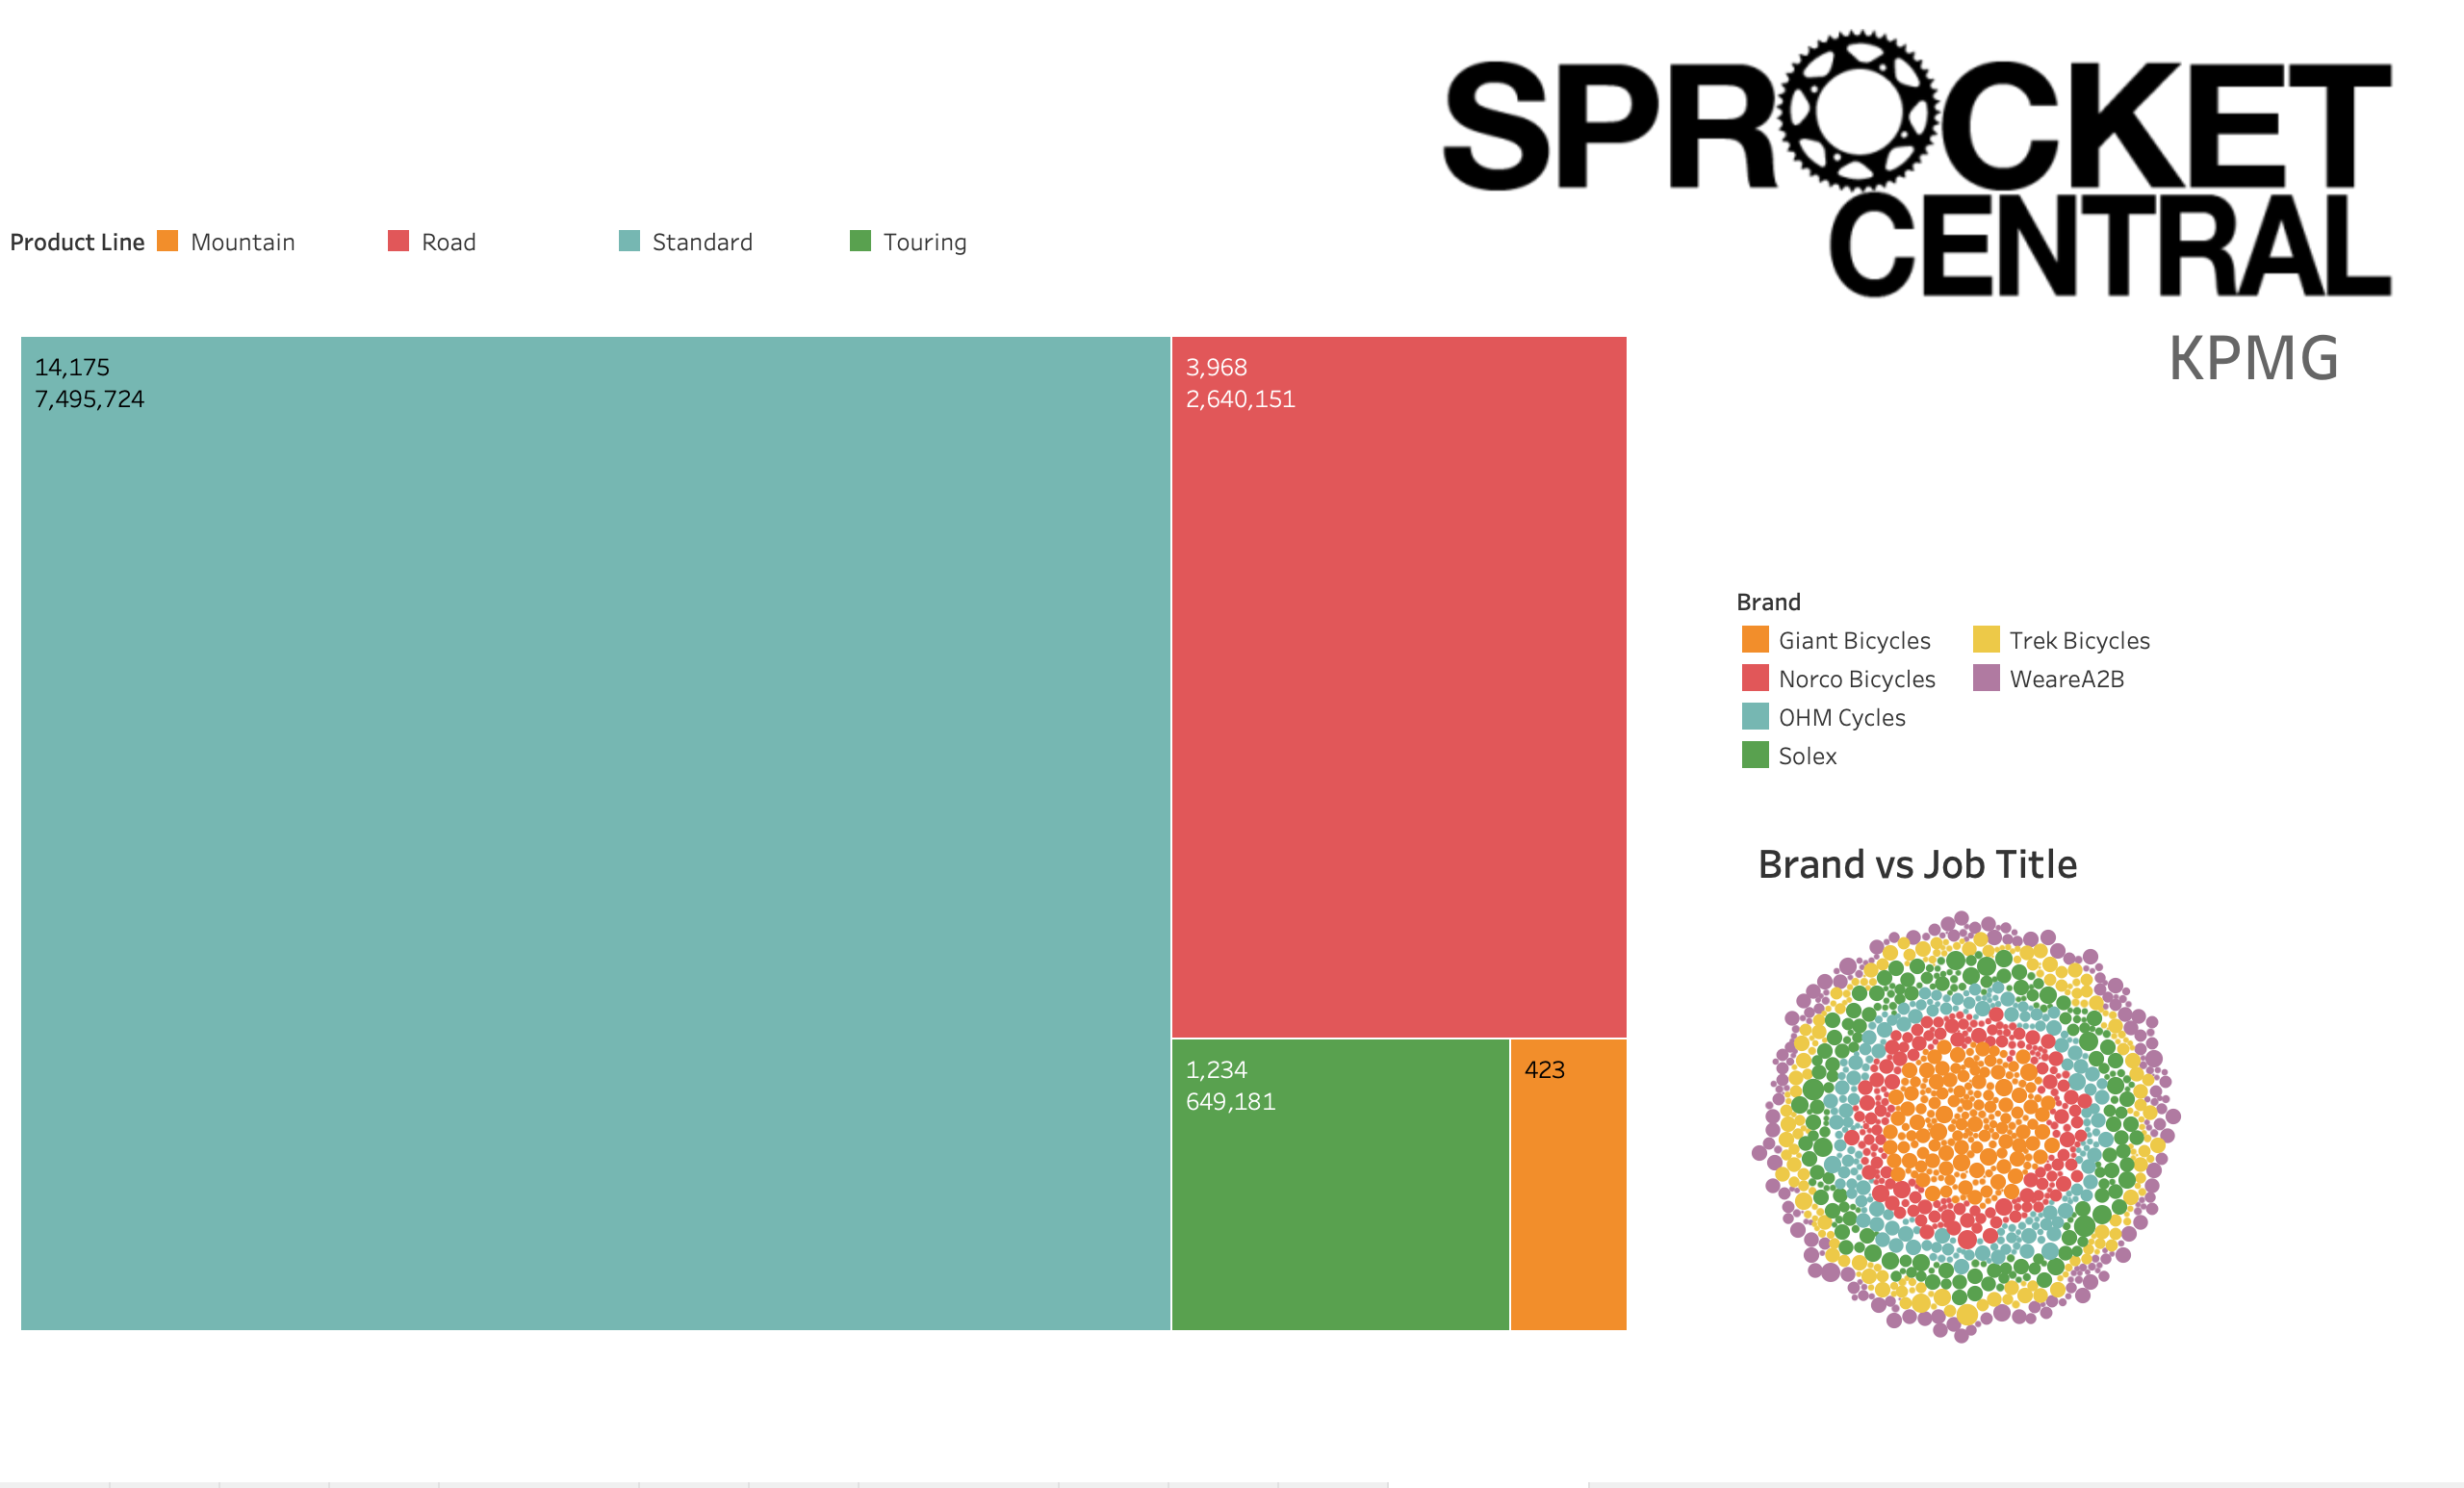

The dashboard page shown, as its layout file describes it:
{"tool":"tableau","page":{"name":"Dashboard 3","canvas":[1000,1000],"units":"permille","ordinal":2},"visuals":[{"type":"worksheet","param":"Image/sprocket_central_logo.png","box":[584.7,19.6,397.6,259.4]},{"type":"worksheet","title":"Sheet 7","mark":"Automatic","param":"[federated.10zzsdp0hoaa021cgm0eb0f26sjg].[none:product_line:nk]","box":[3.7,149.3,637,45.2]},{"type":"worksheet","title":"Sheet 7","mark":"Automatic","param":"[federated.10zzsdp0hoaa021cgm0eb0f26sjg].[sum:Number of Records:qk]","box":[580,191.3,84.5,49.3]},{"type":"worksheet","title":"Sheet 7","mark":"Automatic","box":[4.7,220.2,658.6,681.8]},{"type":"worksheet","title":"Sheet 8","mark":"Circle","param":"[federated.10zzsdp0hoaa021cgm0eb0f26sjg].[none:brand:nk]","box":[704.4,395.2,285.3,135.8]}]}

Visuals, with their boxes on the dashboard's canvas, which has no fixed pixel size, in thousandths of its width and height (x1, y1, x2, y2). These are canvas units, not pixel positions in the 2464x1488 screenshot, which may show the page scaled, cropped or inside an application window:
worksheet: left=585, top=20, right=982, bottom=279
"Sheet 7" worksheet: left=4, top=149, right=641, bottom=194
"Sheet 7" worksheet: left=580, top=191, right=664, bottom=241
"Sheet 7" worksheet: left=5, top=220, right=663, bottom=902
"Sheet 8" worksheet (Circle marks): left=704, top=395, right=990, bottom=531
